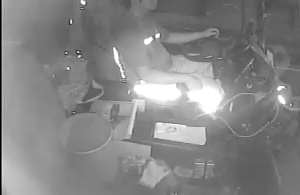paper: (152, 120, 209, 149)
